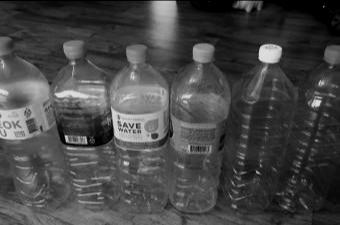bottle: (52, 39, 123, 209), (228, 43, 298, 214), (106, 44, 172, 213), (168, 43, 231, 213), (0, 35, 59, 210), (293, 43, 340, 218)
